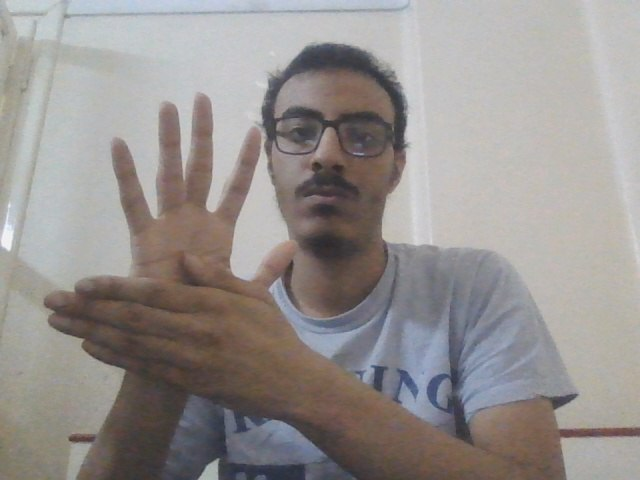Movie: (29, 89, 325, 422)
